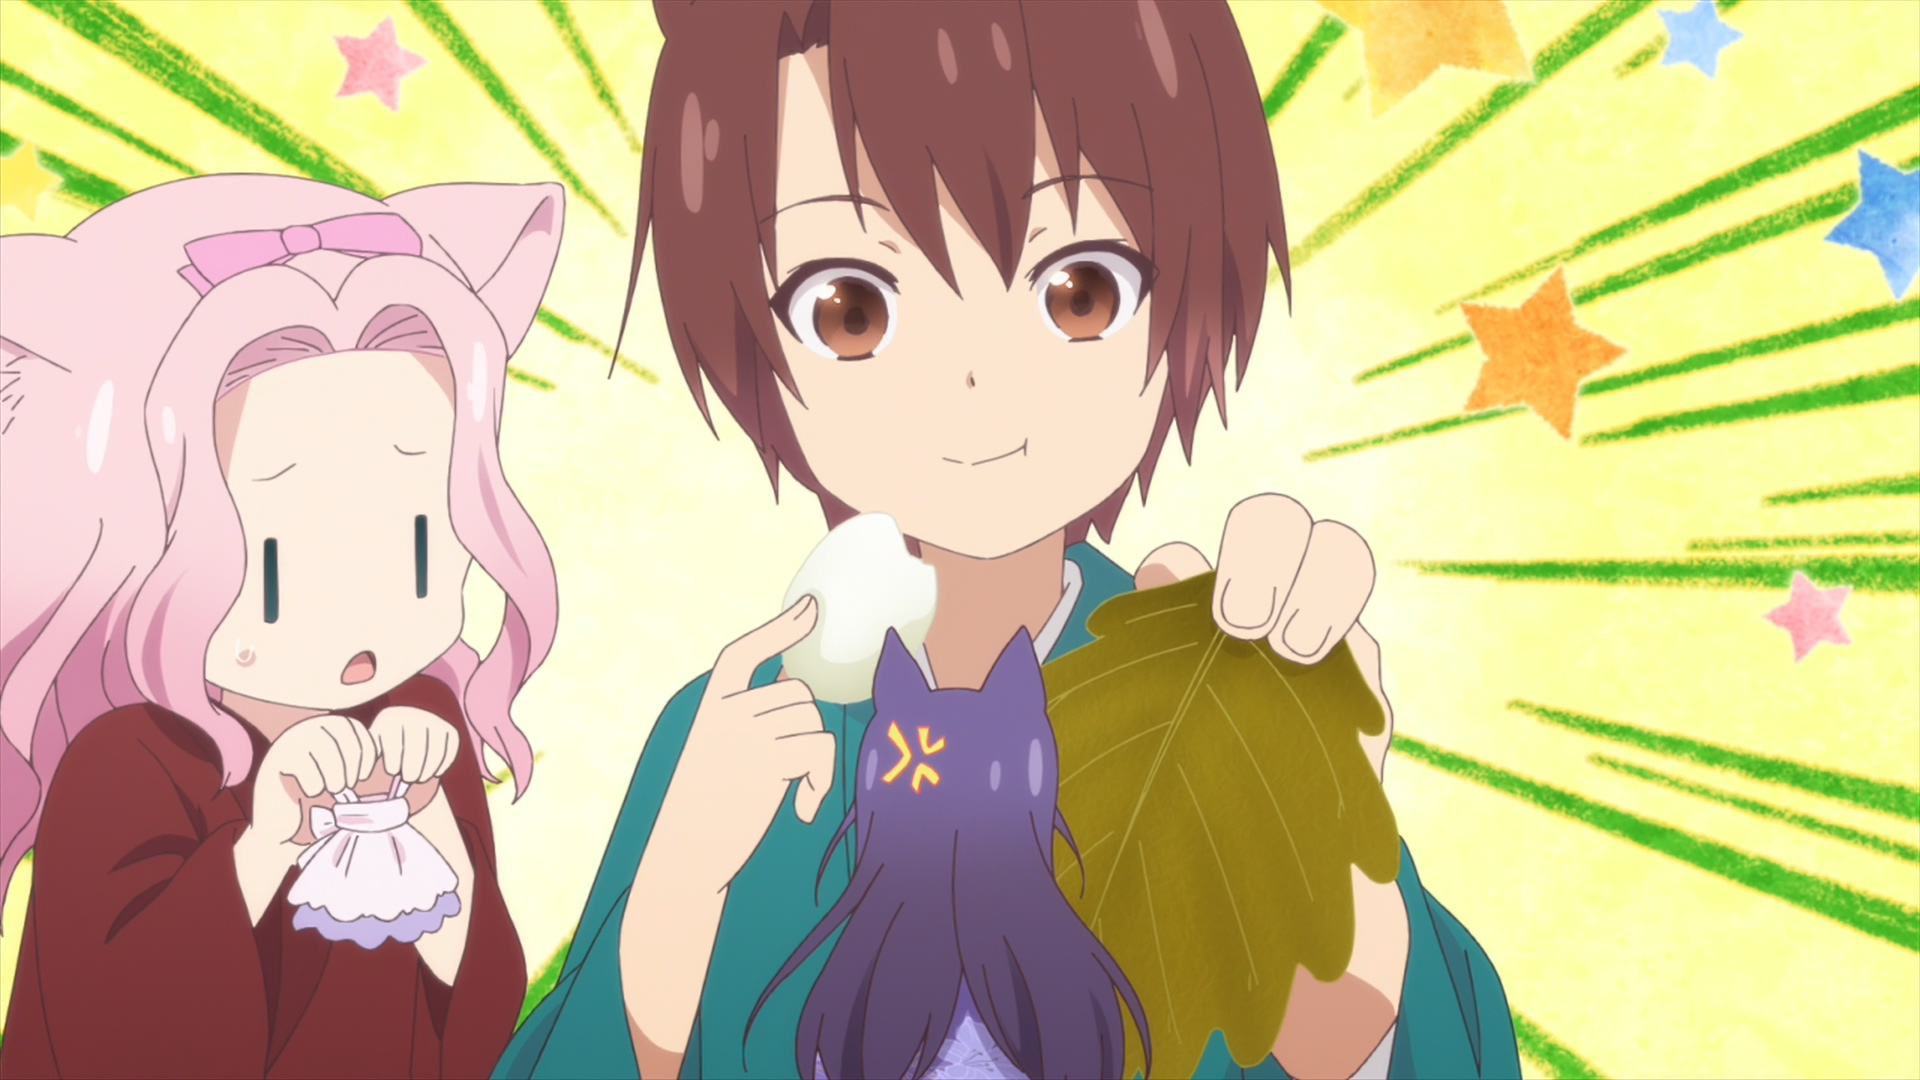枣: (498, 1, 1519, 1080)
皋: (741, 626, 1154, 1080)
莲: (1, 171, 564, 1080)
